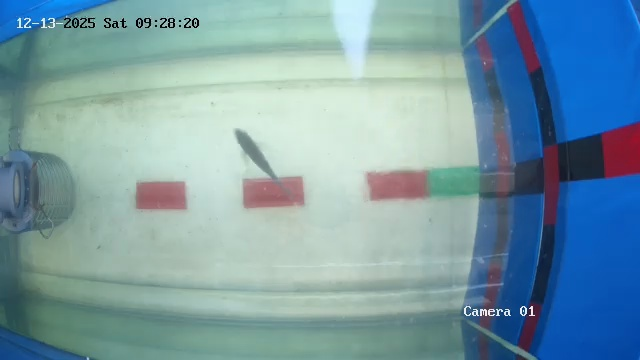fish: (239, 134, 304, 186)
